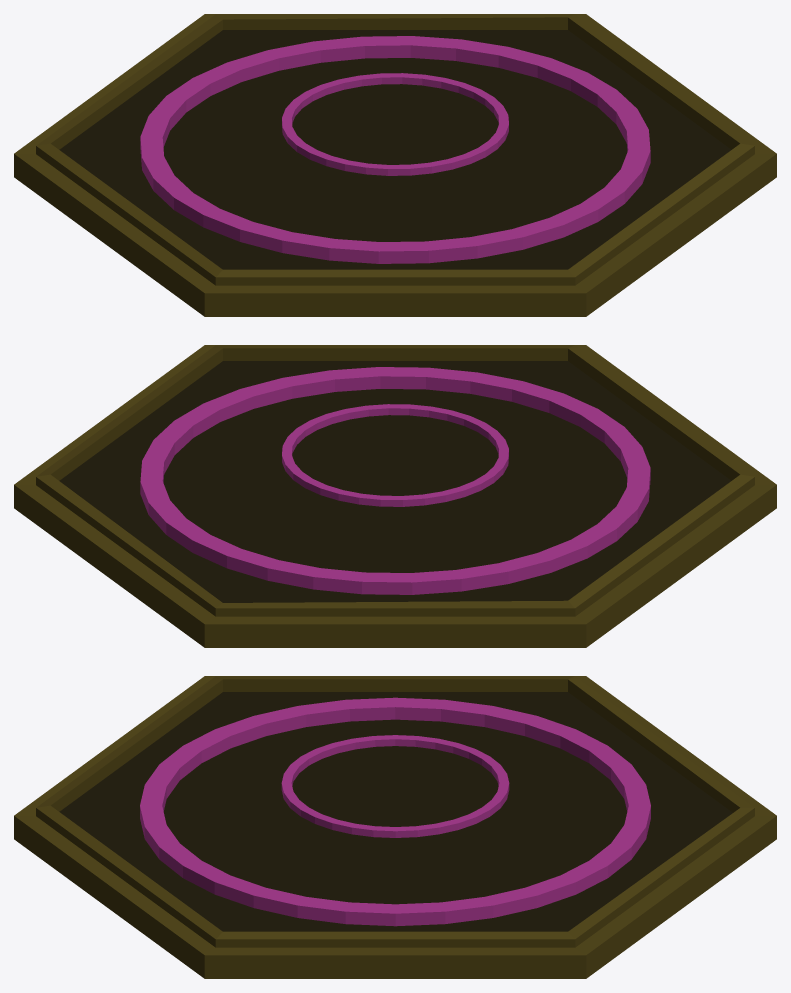
The model's file is Runa activa condicional.fbx.
3 renders of one model, top to bottom at view 1: azimuth 30°, elevation 25°; view 2: azimuth 150°, elevation 25°; view 3: azimuth 270°, elevation 25°, orthographic.
Parts seen in each view (by area): view 1: Circle.007, Circle.024, Circle, Circle.001; view 2: Circle.007, Circle.024, Circle, Circle.001; view 3: Circle.007, Circle.024, Circle, Circle.001.
Boxes of the visible parts, x1,y1,x2,y2 form: Circle.007: (59, 30, 731, 269); Circle.024: (14, 14, 776, 316); Circle: (140, 36, 650, 263); Circle.001: (282, 73, 508, 175); Circle.007: (59, 361, 731, 602); Circle.024: (14, 345, 776, 647); Circle: (140, 367, 650, 594); Circle.001: (282, 404, 508, 506); Circle.007: (59, 692, 732, 931); Circle.024: (14, 676, 776, 978); Circle: (140, 697, 650, 926); Circle.001: (281, 735, 509, 837).
Size of the model in its own units: 809 by 75.85 by 934.
